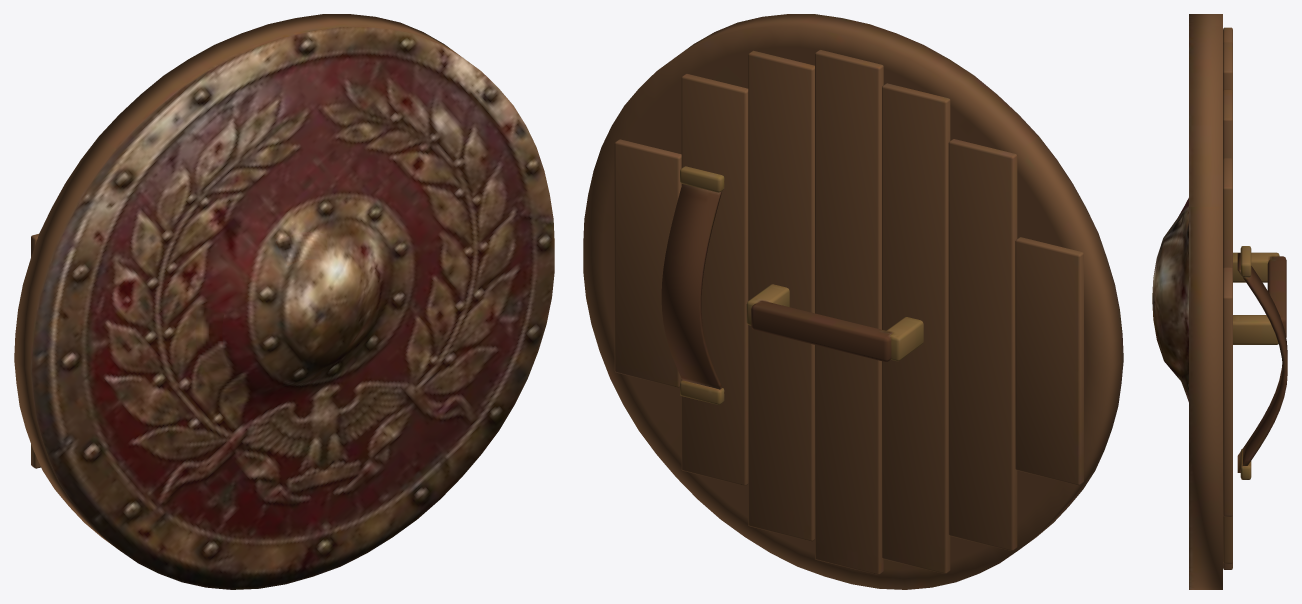
File: centurion-crafted.glb
3 renders of one model, left to right at view 1: azimuth 30°, elevation 25°; view 2: azimuth 150°, elevation 25°; view 3: azimuth 270°, elevation 25°, orthographic. The views are drawn at different scales.
Visible parts, largest first — view 1: centurion-crafted; view 2: centurion-crafted; view 3: centurion-crafted.
Part boxes in pixels (x1,y1,x2,y2): centurion-crafted: [14, 14, 554, 589]; centurion-crafted: [583, 14, 1123, 589]; centurion-crafted: [1152, 14, 1287, 589].
Bounding box in the file's own units: 0.7 × 0.7 × 0.1648.
1 material, 1 textured.
